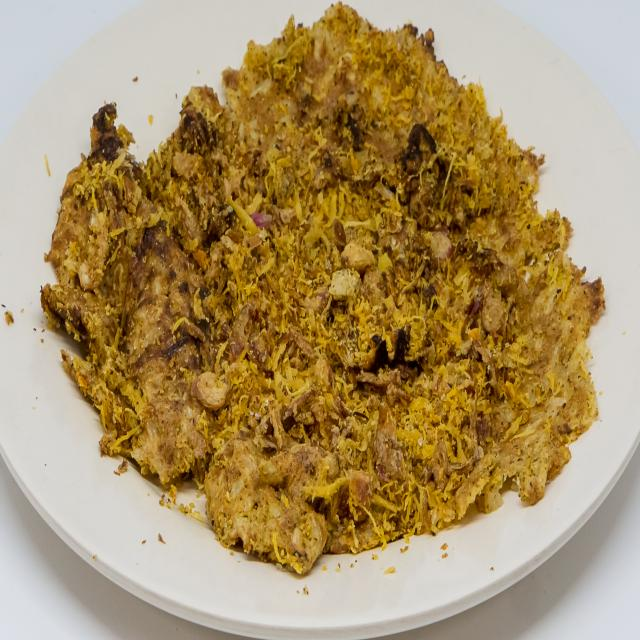Kerak-Telor: (33, 12, 610, 582)
